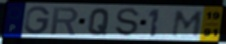1: (148, 8, 161, 38)
G: (23, 5, 52, 36)
M: (170, 9, 206, 38)
Q: (86, 7, 112, 37)
R: (49, 6, 80, 36)
S: (114, 7, 141, 38)
